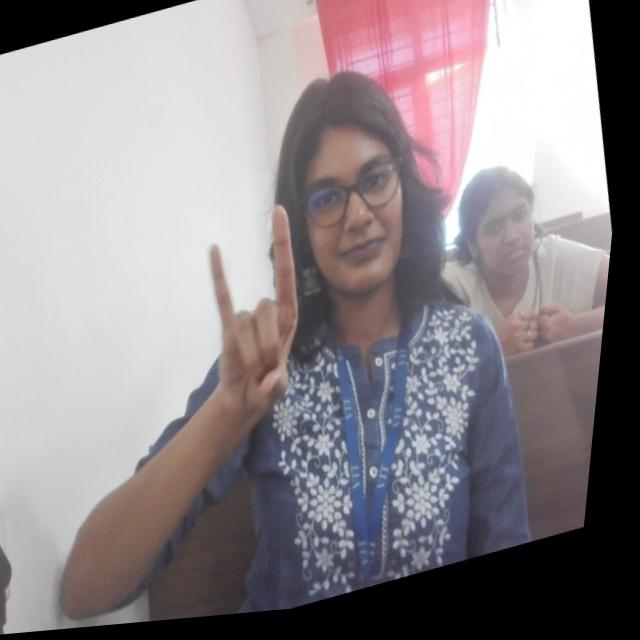iloveyou: (182, 202, 335, 433)
